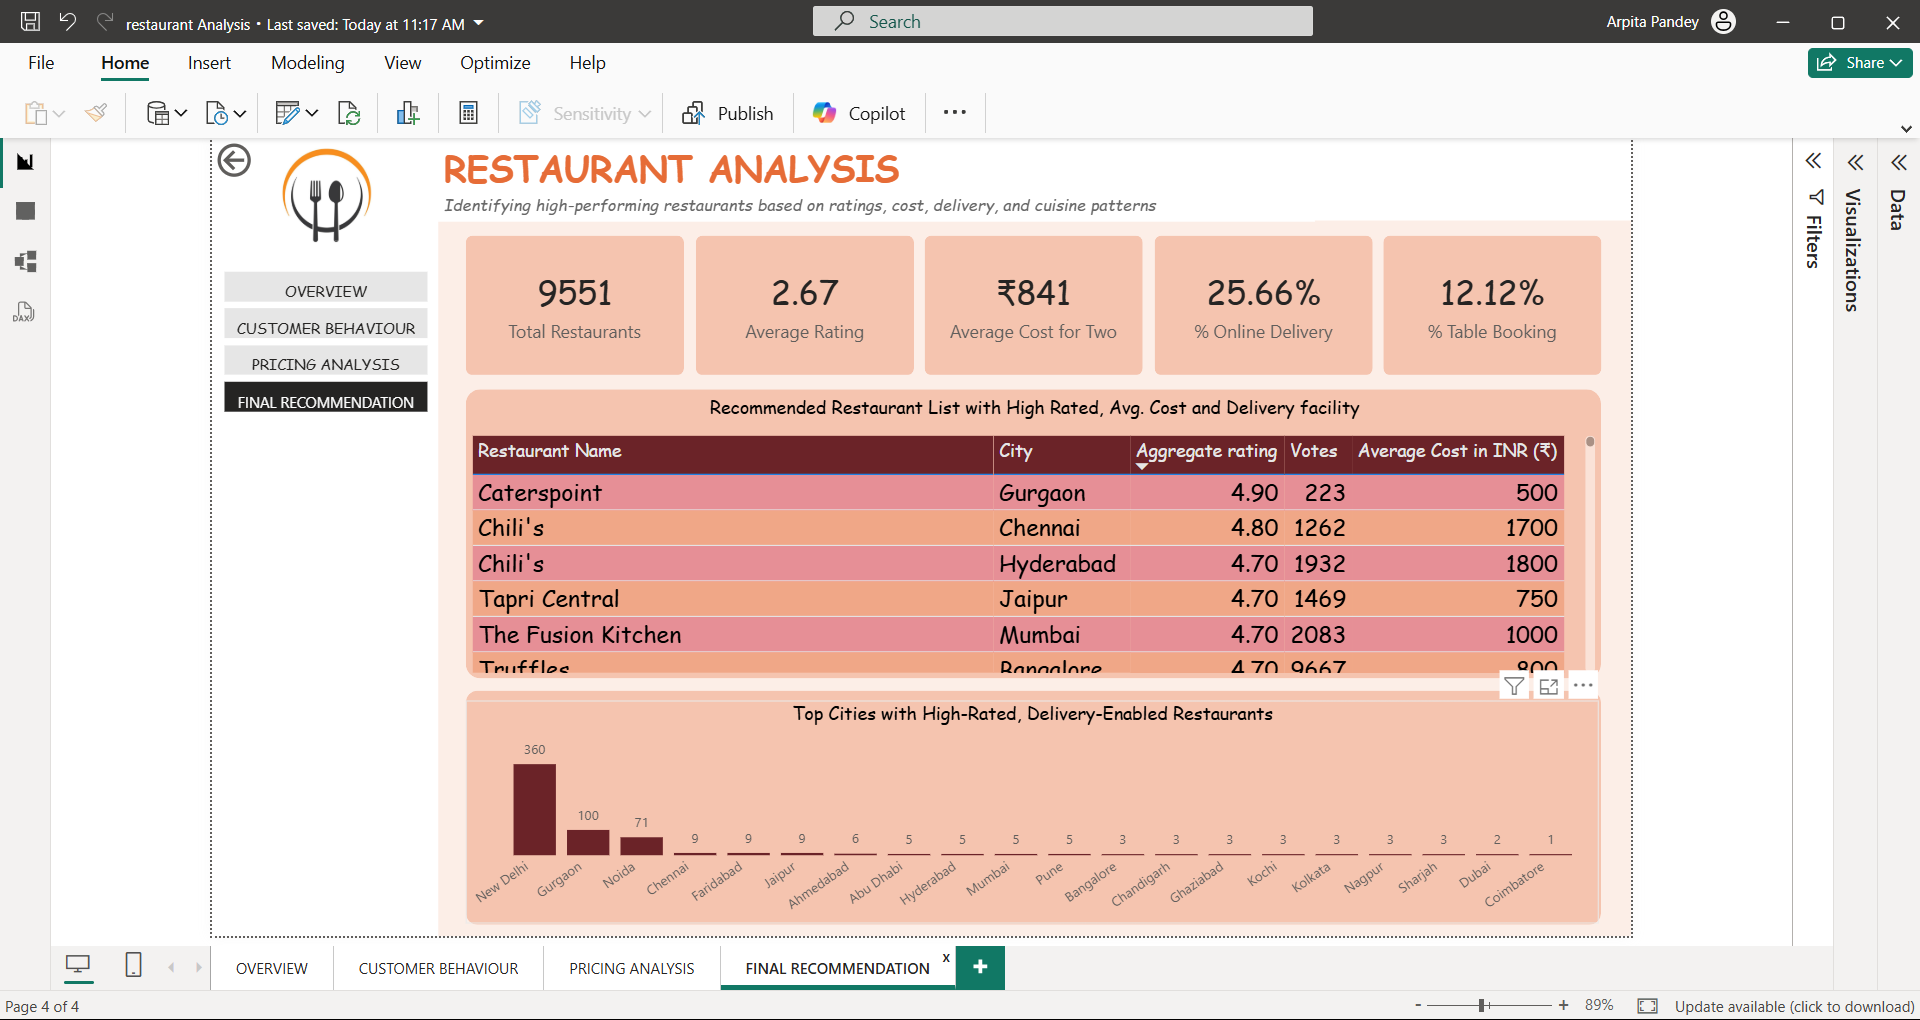

This screenshot's page, from the dashboard's own definition file:
{"tool":"powerbi","page":{"name":"FINAL RECOMMENDATION","canvas":[1280,720],"ordinal":3},"visuals":[{"type":"shape","box":[0,0,204.2,720.2],"z":0},{"type":"shape","box":[0,0,1280.3,74.6],"z":1000},{"type":"image","box":[37,0,131,104],"z":2000},{"type":"textbox","box":[204,0,554,66],"z":3000},{"type":"textbox","box":[204,45,790,30],"z":4000},{"type":"group","id":"g1","title":"Group 1","box":[228.7,87.9,196.9,126],"z":5000},{"type":"group","id":"g2","title":"Group 1","box":[435.6,87.9,196.9,126],"z":6000},{"type":"shape","box":[228.7,87.9,196.9,126],"z":7000,"group":"g1"},{"type":"shape","box":[435.6,87.9,196.9,126],"z":7000,"group":"g2"},{"type":"group","id":"g3","title":"Group 1","box":[642.6,87.9,196.9,126],"z":7000},{"type":"shape","box":[642.6,87.9,196.9,126],"z":7000,"group":"g3"},{"type":"shape","box":[849.6,87.9,196.9,126],"z":7000,"group":"g4"},{"type":"shape","box":[1056.5,87.9,196.9,126],"z":7000,"group":"g5"},{"type":"group","id":"g4","title":"Group 1","box":[849.6,87.9,196.9,126],"z":8000},{"type":"group","id":"g5","title":"Group 1","box":[1056.5,87.9,196.9,126],"z":9000},{"type":"card","fields":{"Values":["restaurant_db.Total Restaurants"]},"box":[228.7,98.4,196.9,105.2],"z":9001,"group":"g1"},{"type":"card","fields":{"Values":["restaurant_db.Average Rating"]},"box":[435.6,98.4,196.9,105.2],"z":9001,"group":"g2"},{"type":"card","fields":{"Values":["restaurant_db.Average Cost for Two People"]},"box":[642.6,98.4,196.9,105.2],"z":9001,"group":"g3"},{"type":"card","fields":{"Values":["restaurant_db.% Online Delivery"]},"box":[849.6,98.4,196.9,105.2],"z":9001,"group":"g4"},{"type":"card","fields":{"Values":["restaurant_db.% Table Booking"]},"box":[1056.5,98.4,196.9,105.2],"z":9001,"group":"g5"},{"type":"shape","box":[229.2,226.4,1023.7,260.7],"z":10000},{"type":"shape","box":[229.2,498.1,1023.7,211.3],"z":11000},{"type":"tableEx","fields":{"Values":["restaurant_db.Restaurant Name","restaurant_db.City","restaurant_db.Aggregate rating","restaurant_db.Votes","restaurant_db.Average Cost in INR (₹)"]},"box":[229.2,263.5,1023.7,223.7],"z":12000},{"type":"actionButton","box":[0,0,100,40],"z":13000},{"type":"clusteredColumnChart","title":"Top Cities with High-Rated, Delivery-Enabled Restaurants","fields":{"Category":["restaurant_db.City"],"Y":["CountNonNull(restaurant_db.Restaurant ID)"]},"box":[229.2,507.7,1022.3,201.7],"z":14000},{"type":"textbox","box":[422.6,226.4,638.1,34.3],"z":15000},{"type":"pageNavigator","box":[11,120.8,183.9,127.6],"z":16000}]}

Visuals, with their boxes on the page's 1280x720 design canvas (x1, y1, x2, y2). These are canvas units, not pixel positions in the 1920x1020 screenshot, which may show the page scaled, cropped or inside an application window:
shape: (0,0,204,720)
shape: (0,0,1280,75)
image: (37,0,168,104)
textbox: (204,0,758,66)
textbox: (204,45,994,75)
"Group 1" group: (229,88,426,214)
"Group 1" group: (436,88,632,214)
shape: (229,88,426,214)
shape: (436,88,632,214)
"Group 1" group: (643,88,840,214)
shape: (643,88,840,214)
shape: (850,88,1046,214)
shape: (1056,88,1253,214)
"Group 1" group: (850,88,1046,214)
"Group 1" group: (1056,88,1253,214)
card - restaurant_db.Total Restaurants: (229,98,426,204)
card - restaurant_db.Average Rating: (436,98,632,204)
card - restaurant_db.Average Cost for Two People: (643,98,840,204)
card - restaurant_db.% Online Delivery: (850,98,1046,204)
card - restaurant_db.% Table Booking: (1056,98,1253,204)
shape: (229,226,1253,487)
shape: (229,498,1253,709)
tableEx - restaurant_db.Restaurant Name x restaurant_db.City: (229,264,1253,487)
actionButton: (0,0,100,40)
"Top Cities with High-Rated, Delivery-Enabled Restaurants" clusteredColumnChart: (229,508,1252,709)
textbox: (423,226,1061,261)
pageNavigator: (11,121,195,248)
